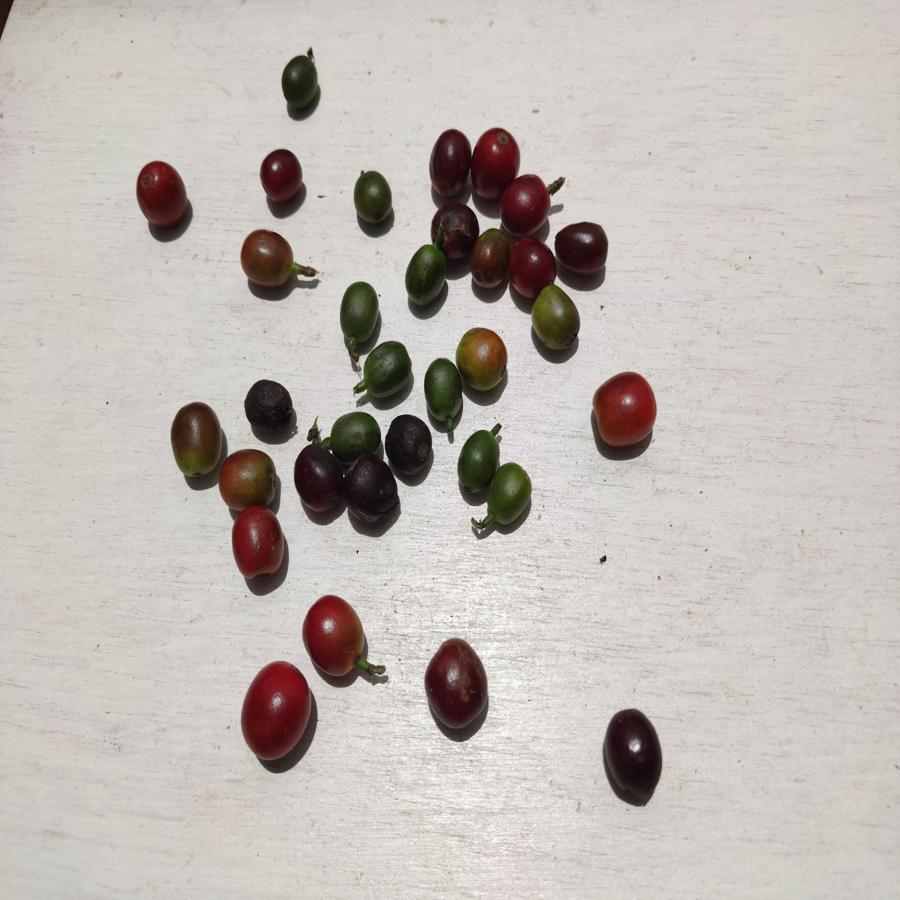Inmaduro: (482, 462, 535, 527), (362, 342, 416, 401), (339, 280, 381, 348), (422, 358, 464, 423), (403, 245, 446, 306), (352, 169, 396, 226), (278, 55, 321, 110), (457, 431, 494, 494), (326, 412, 383, 452)
Maduro: (240, 661, 314, 761), (301, 595, 367, 677), (591, 370, 658, 447), (231, 508, 292, 583), (130, 159, 191, 228)
Pinton: (169, 400, 225, 478), (240, 224, 296, 291), (531, 285, 583, 355), (456, 328, 512, 392), (219, 451, 277, 501)
Sobremaduro: (423, 636, 491, 735), (602, 705, 665, 800), (291, 444, 342, 516), (344, 459, 398, 526), (471, 127, 520, 199), (239, 374, 297, 432), (552, 218, 610, 275), (427, 128, 471, 195), (498, 175, 552, 228), (385, 417, 431, 473), (430, 200, 473, 258), (259, 148, 303, 203), (472, 228, 510, 291), (512, 235, 556, 286)
